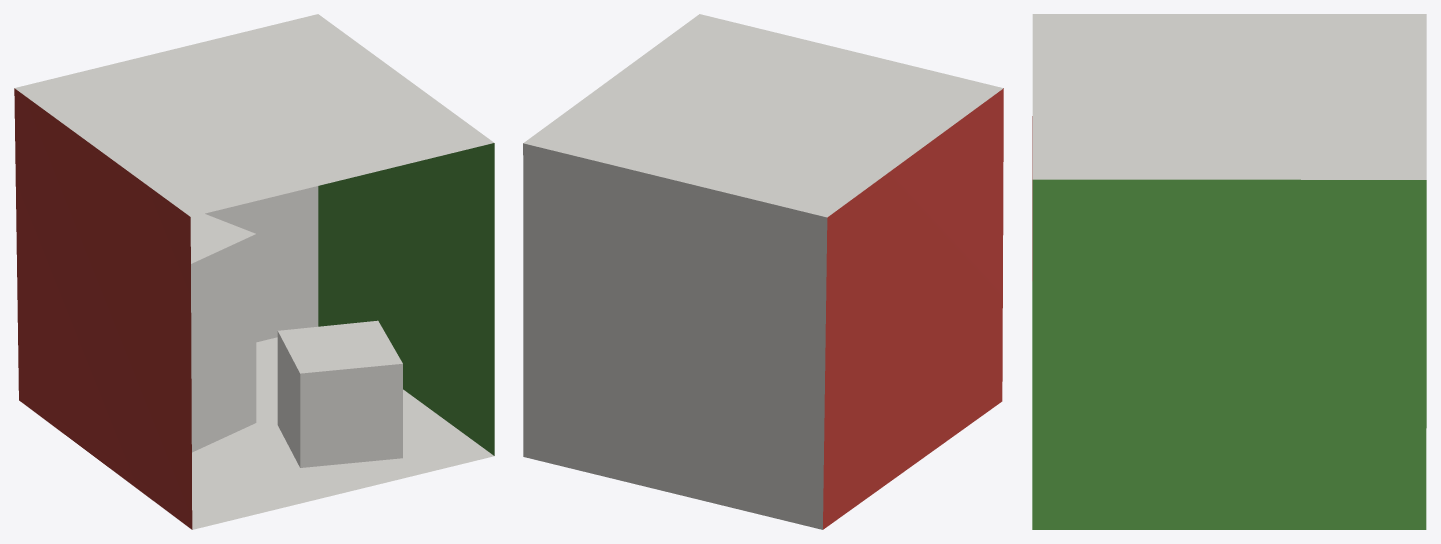
Rendered from cornell.gltf.
3 views of the same model, side by side, from view 1: azimuth 30°, elevation 25°; view 2: azimuth 150°, elevation 25°; view 3: azimuth 270°, elevation 25° (orthographic). The views are drawn at different scales.
Parts seen in each view (by area): view 1: Object_5, Object_3, Object_7, Object_4, Object_8, Object_9, Object_2; view 2: Object_2, Object_5, Object_3; view 3: Object_7, Object_3.
Part boxes in pixels (x1,y1,x2,y2): Object_5: [14, 88, 192, 529]; Object_3: [14, 14, 493, 216]; Object_7: [318, 143, 494, 455]; Object_4: [192, 337, 494, 529]; Object_8: [277, 320, 402, 467]; Object_9: [190, 213, 256, 452]; Object_2: [205, 186, 318, 342]; Object_2: [523, 143, 827, 529]; Object_5: [823, 88, 1003, 529]; Object_3: [523, 14, 1003, 217]; Object_7: [1032, 179, 1426, 529]; Object_3: [1032, 14, 1426, 179].
Bounding box in the file's own units: 2.02 × 1.99 × 2.03.
